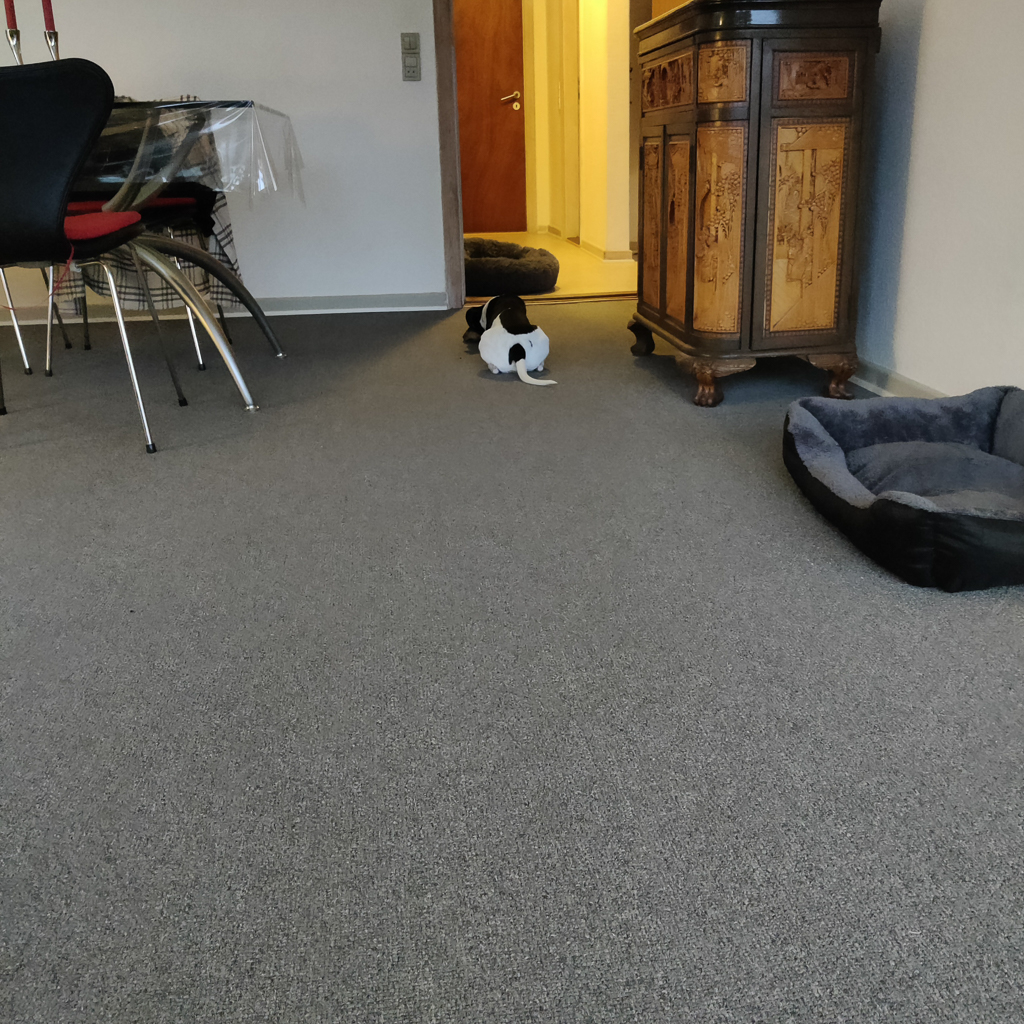Dog: (454, 284, 566, 392)
